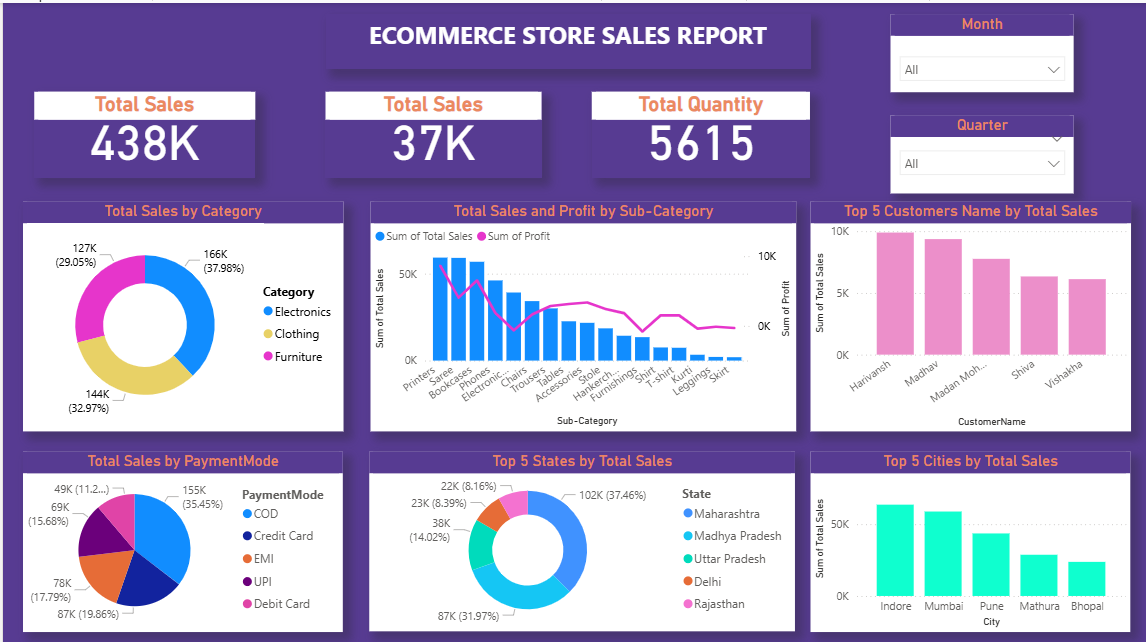

Layout of this report page (visuals, bound fields, positions):
{"tool":"powerbi","page":{"name":"Page 1","canvas":[1280,720],"ordinal":0},"visuals":[{"type":"card","title":"Total Sales","fields":{"Values":["Ecommerce dataset powerbi.Total Sales"]},"box":[34.3,98.8,247,96.1],"z":0},{"type":"textbox","box":[360.9,12.3,542,61.7],"z":1000},{"type":"card","title":"Total Sales","fields":{"Values":["Ecommerce dataset powerbi.Profit"]},"box":[360.9,98.8,241.5,96.1],"z":2000},{"type":"card","title":"Total Quantity","fields":{"Values":["Ecommerce dataset powerbi.Quantity"]},"box":[658.7,98.8,244.3,96.1],"z":3000},{"type":"slicer","title":"Month","fields":{"Values":["Ecommerce dataset powerbi (3).Order Date","Ecommerce dataset powerbi (3).Order Date.Variation.Date Hierarchy.Month"]},"box":[992.9,12.1,205.1,86.9],"z":4000},{"type":"slicer","title":"Quarter","fields":{"Values":["Ecommerce dataset powerbi (3).Order Date","Ecommerce dataset powerbi (3).Order Date.Variation.Date Hierarchy.Quarter"]},"box":[992.9,125.5,205.1,86.9],"z":5000},{"type":"donutChart","title":" Total Sales by Category","fields":{"Y":["Ecommerce dataset powerbi.Total Sales"],"Category":["Ecommerce dataset powerbi.Category"]},"box":[21.7,222,358.3,257],"z":6000},{"type":"lineClusteredColumnComboChart","title":"Total Sales and Profit by Sub-Category","fields":{"Y":["Ecommerce dataset powerbi.Total Sales"],"Category":["Ecommerce dataset powerbi.Sub-Category"],"Y2":["Ecommerce dataset powerbi.Profit"]},"box":[410.3,222.3,476.2,256.6],"z":7000},{"type":"columnChart","title":"Top 5 Customers Name by Total Sales","fields":{"Category":["Ecommerce dataset powerbi (3).CustomerName"],"Y":["Ecommerce dataset powerbi.Total Sales"]},"box":[902.4,222,358.3,257],"z":8000},{"type":"pieChart","title":"Total Sales by PaymentMode","fields":{"Y":["Ecommerce dataset powerbi.Total Sales"],"Category":["Ecommerce dataset powerbi.PaymentMode"]},"box":[22.4,501.8,357.8,201.3],"z":9000},{"type":"donutChart","title":"Top 5 States by Total Sales","fields":{"Category":["Ecommerce dataset powerbi (3).State"],"Y":["Ecommerce dataset powerbi.Total Sales"]},"box":[410,502,476,201],"z":10000},{"type":"columnChart","title":"Top 5 Cities by Total Sales","fields":{"Category":["Ecommerce dataset powerbi (3).City"],"Y":["Ecommerce dataset powerbi.Total Sales"]},"box":[902.9,501.8,357.8,201.3],"z":10001}]}

Visuals, with their boxes in screenshot pixels (x1, y1, x2, y2), scaled from the page's 1280x720 canvas onto the 1146x642 screenshot:
"Total Sales" card: [left=31, top=88, right=252, bottom=174]
textbox: [left=323, top=11, right=808, bottom=66]
"Total Sales" card: [left=323, top=88, right=539, bottom=174]
"Total Quantity" card: [left=590, top=88, right=808, bottom=174]
"Month" slicer: [left=889, top=11, right=1073, bottom=88]
"Quarter" slicer: [left=889, top=112, right=1073, bottom=189]
" Total Sales by Category" donutChart: [left=19, top=198, right=340, bottom=427]
"Total Sales and Profit by Sub-Category" lineClusteredColumnComboChart: [left=367, top=198, right=794, bottom=427]
"Top 5 Customers Name by Total Sales" columnChart: [left=808, top=198, right=1129, bottom=427]
"Total Sales by PaymentMode" pieChart: [left=20, top=447, right=340, bottom=627]
"Top 5 States by Total Sales" donutChart: [left=367, top=448, right=793, bottom=627]
"Top 5 Cities by Total Sales" columnChart: [left=808, top=447, right=1129, bottom=627]
